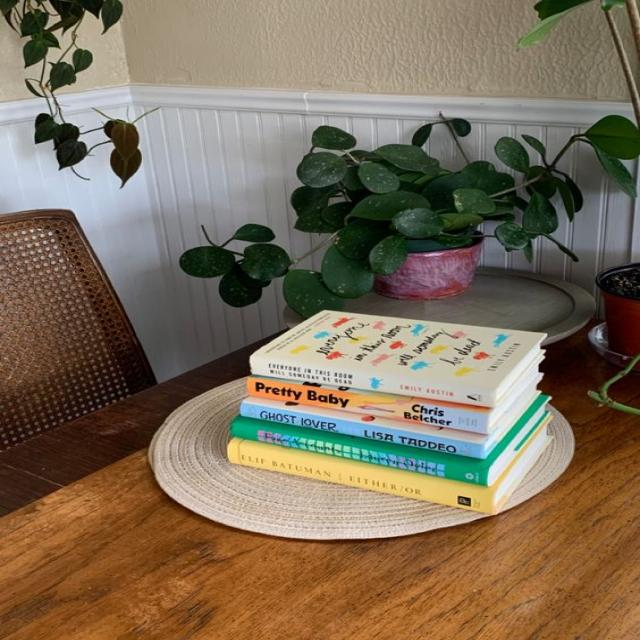book: (231, 444, 494, 513), (233, 422, 489, 485), (239, 403, 484, 459), (247, 377, 490, 433), (253, 358, 498, 407)
plants: (180, 115, 639, 318)
